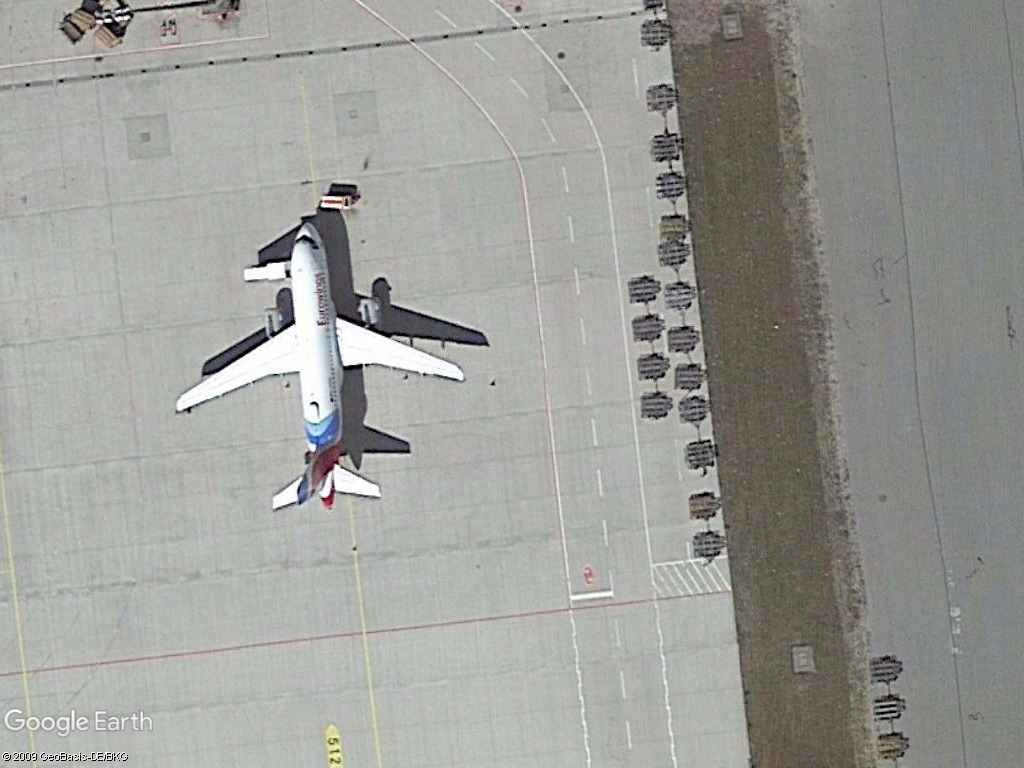airliner: (172, 215, 469, 518)
